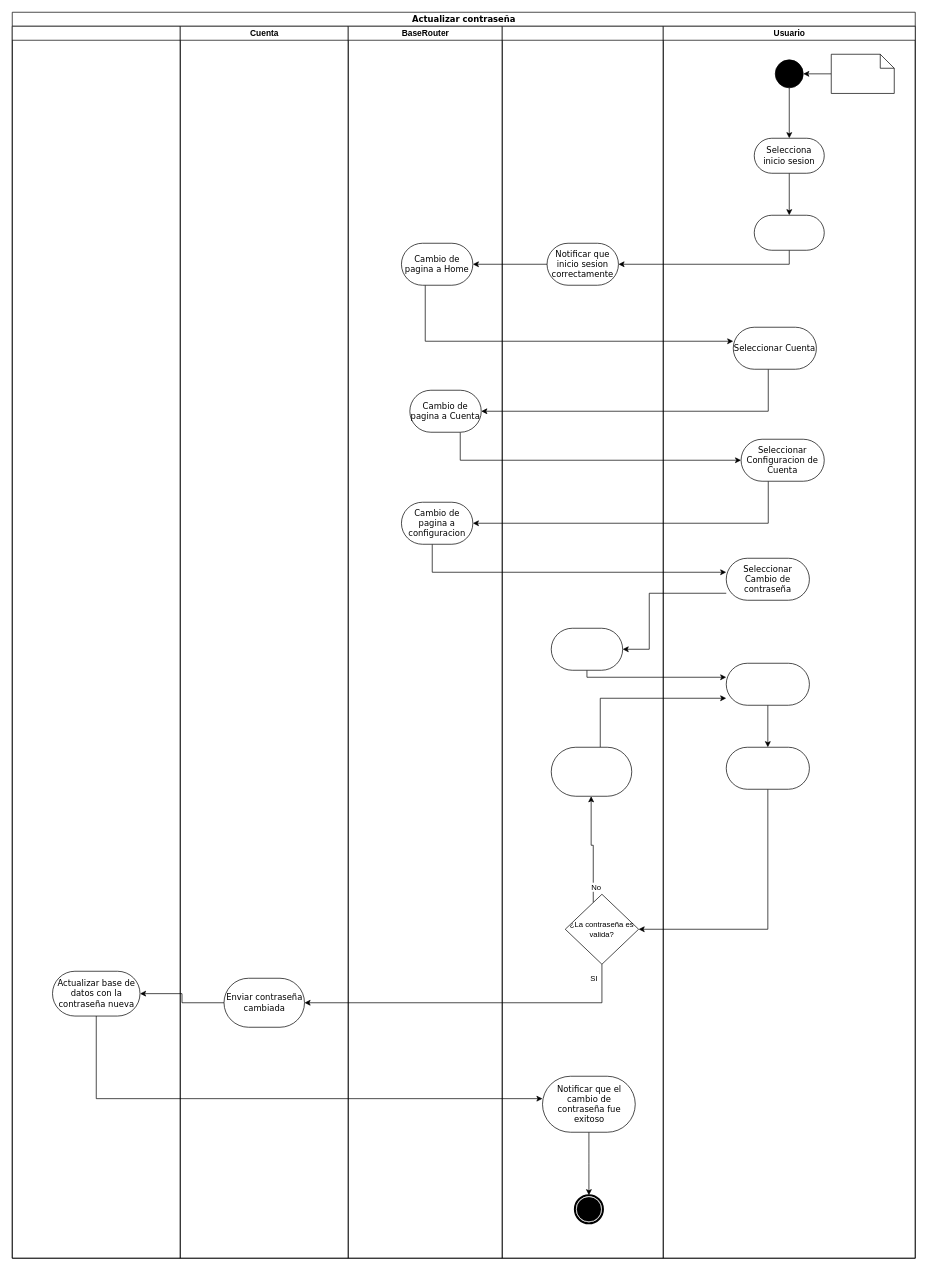
The diagram is 928 pixels wide and 1271 high, and some of its shapes have lost their labels. The box of each missing label's shape, as (x1, y1, x2, y2) in pixels:
API: (12, 26, 180, 1258)
APP: (502, 26, 663, 1258)
Confirmar cambio de contraseña: (726, 747, 809, 789)
Introducir nueva contraseña: (726, 663, 809, 705)
Notificar que la contraseña no es valida: (551, 747, 632, 796)
Pide rellenar formulario de cambio de contraseña: (551, 628, 623, 670)
Se autentifica: (754, 215, 824, 250)
Usuario Registrado: (831, 54, 894, 93)
